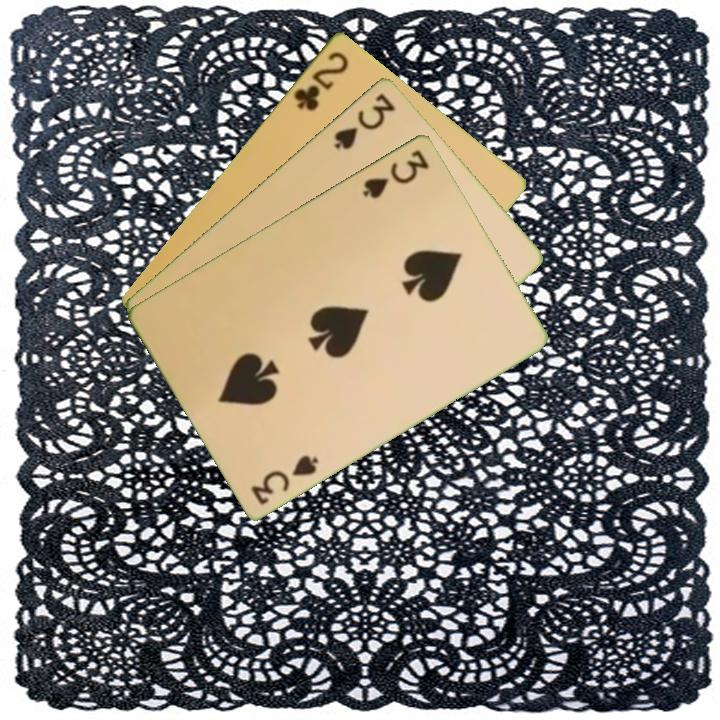2c: (290, 47, 352, 114)
3s: (330, 89, 399, 152), (247, 451, 322, 508), (359, 145, 432, 201)
